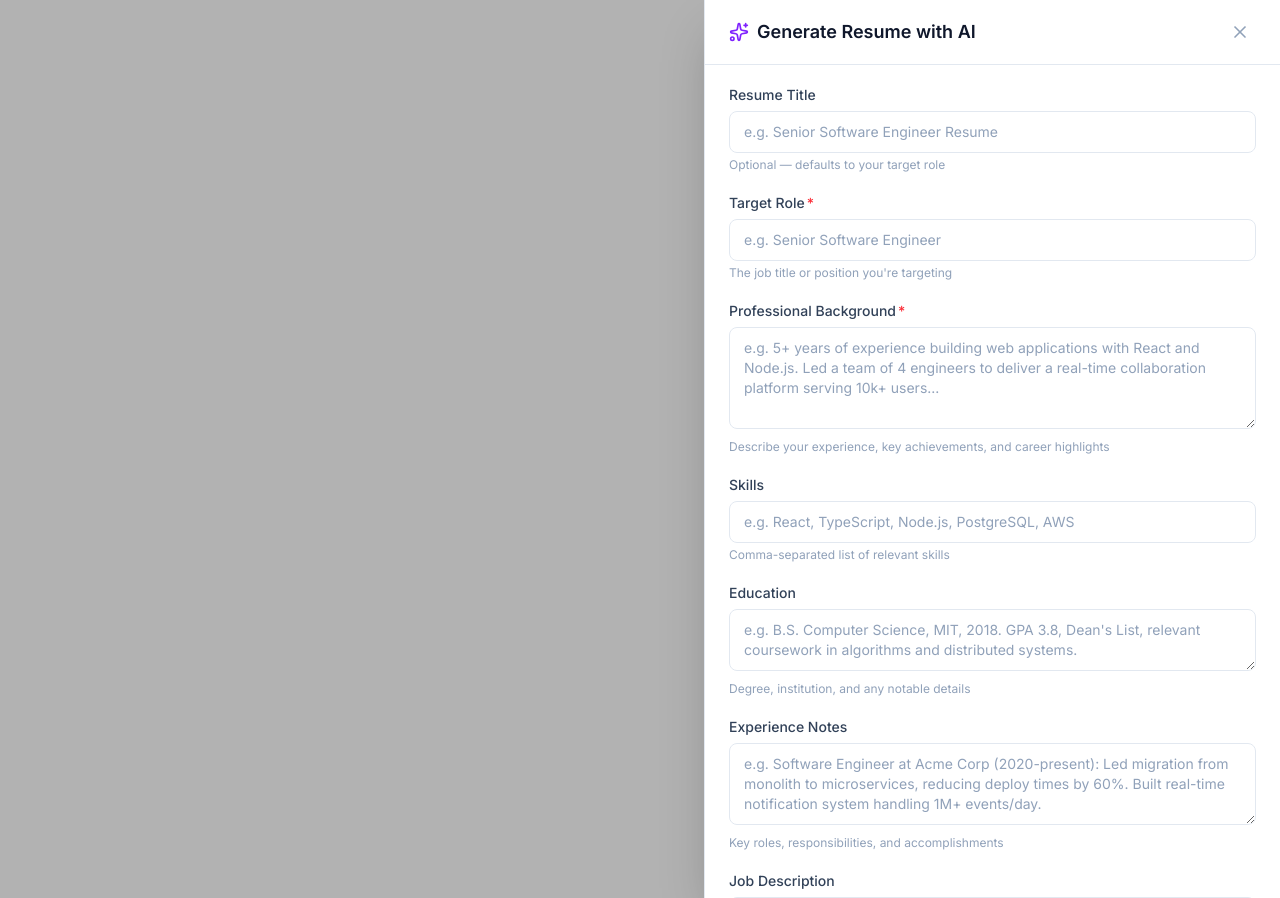
11. Provider failure maps safely › shows safe error for provider unavailable
The width and height of the screenshot is (1280, 898).
In the field labelled "Target Role*": (992, 240) [729,219,1256,261], type "Engineer"
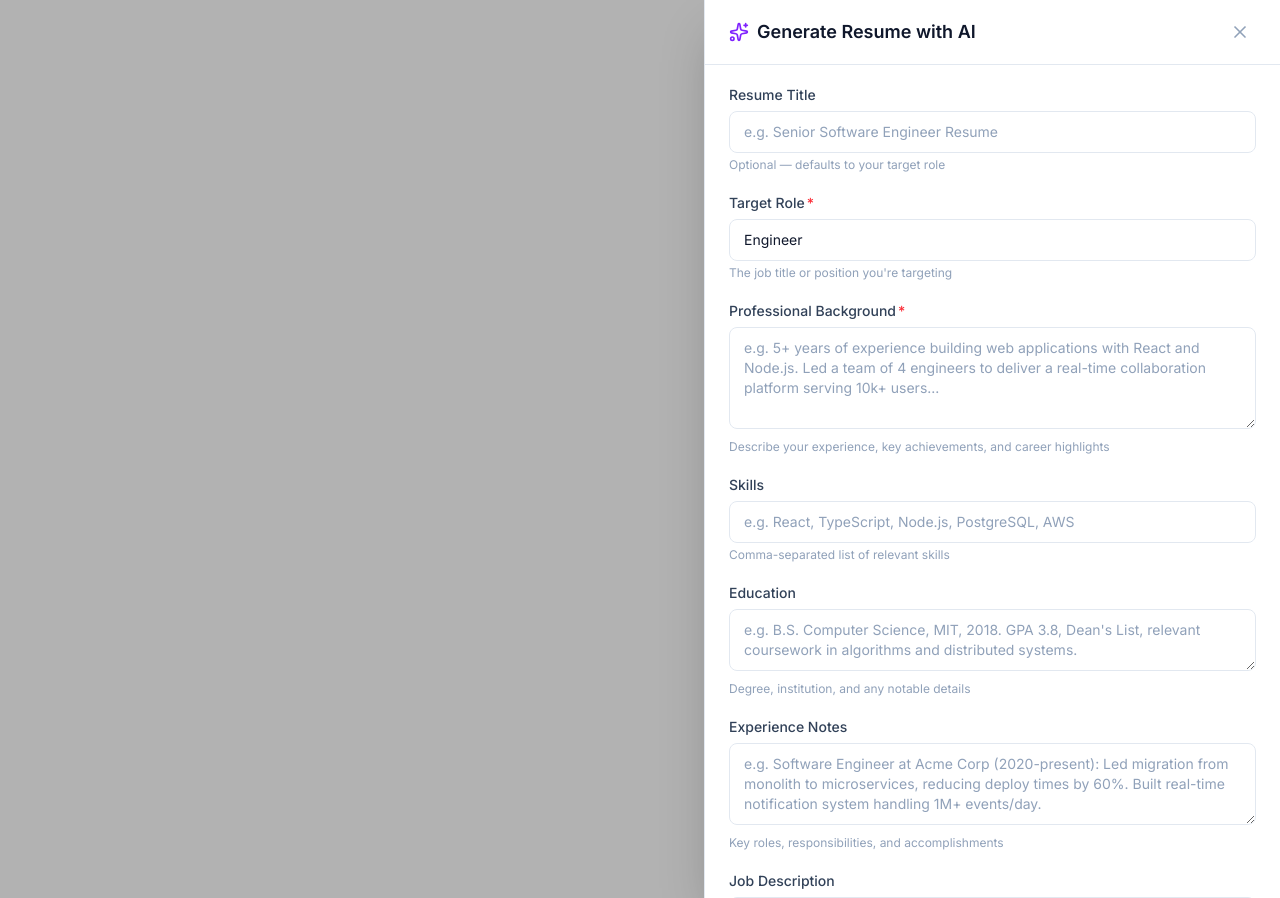
Replace the text in the text box labelled "Professional Background*" with "Experience": (992, 378) [729,327,1256,429]
(page scrolled)
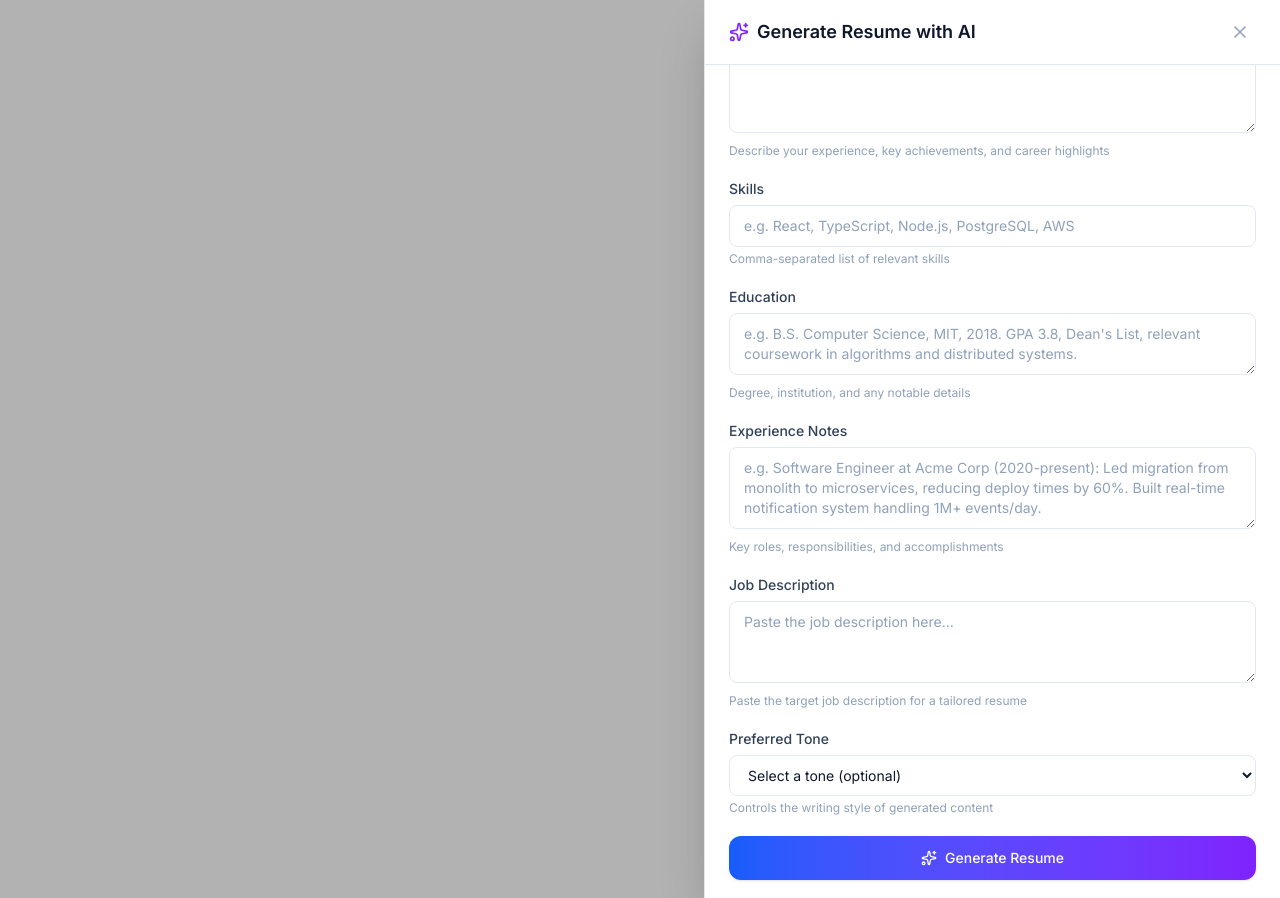
Click the button "Generate Resume": (992, 858) [729,836,1256,880]
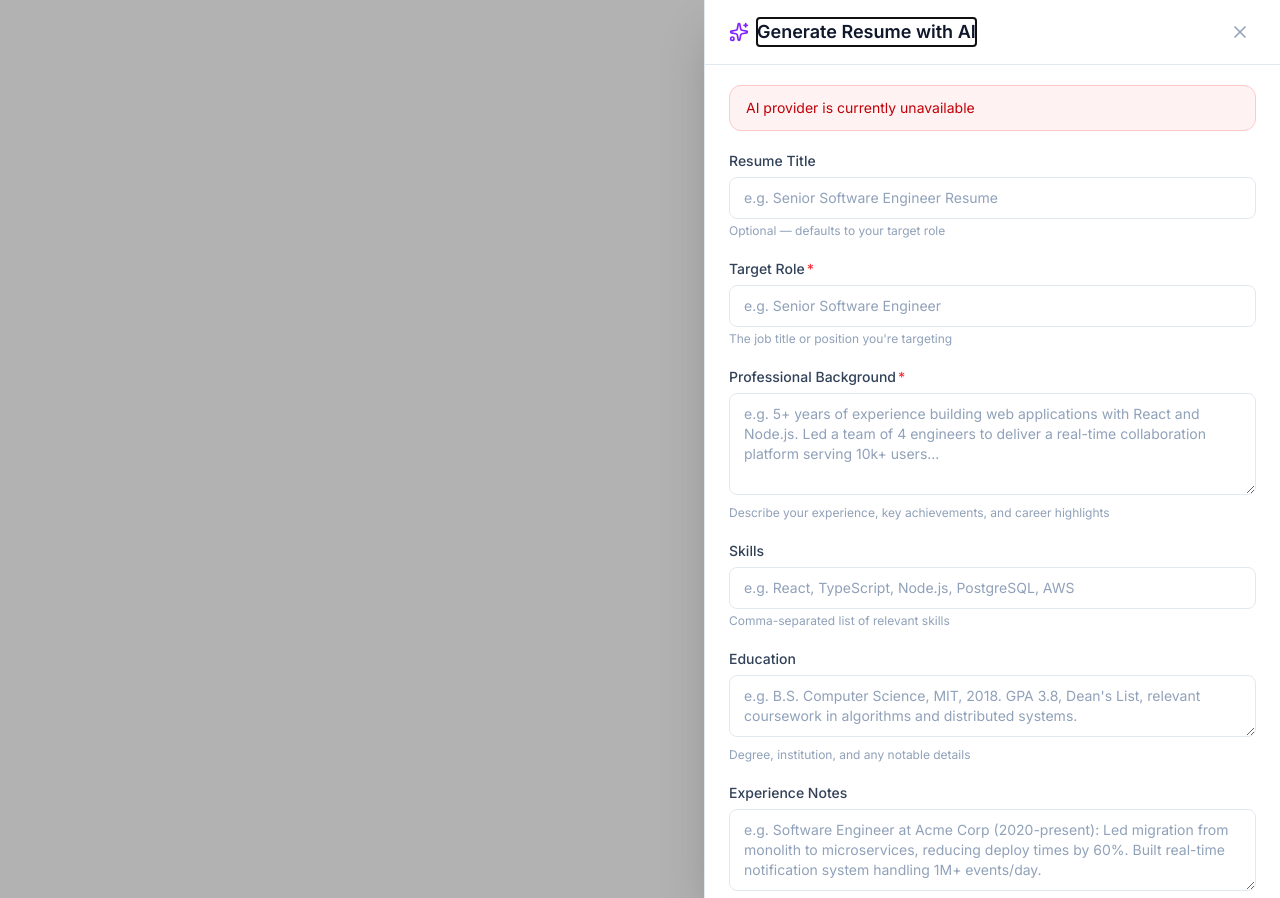
expect the text "AI provider is currently unavailable" is shown: met, box [729,85,1256,131]
